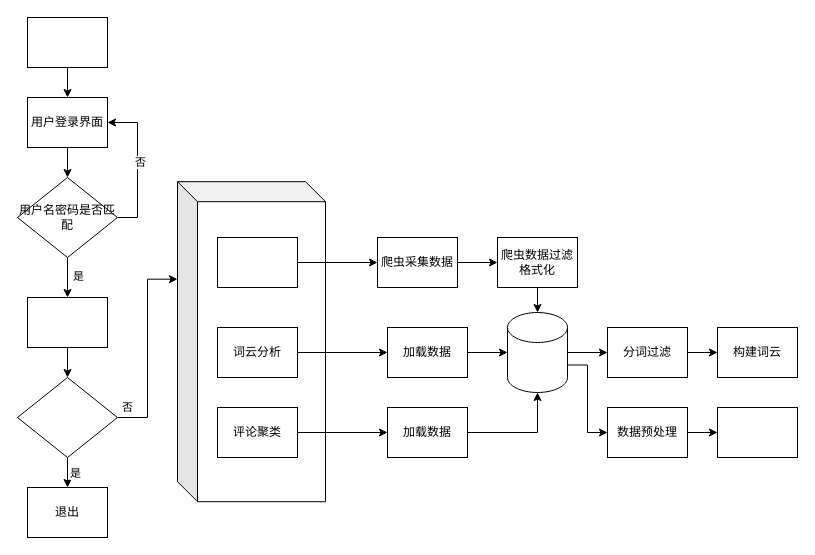
Some shapes in this 815 by 555 pixel diagram are drawn without their labels. Here are the shapes that lost their labels. From the top down, the box of each, then its label:
(26, 16, 108, 68): 打开软件
(216, 236, 298, 288): 数据采集模块
(26, 296, 108, 348): 主界面
(506, 312, 568, 392): 数据库
(16, 376, 118, 458): 是否退出系统
(716, 406, 798, 458): 数据聚类
